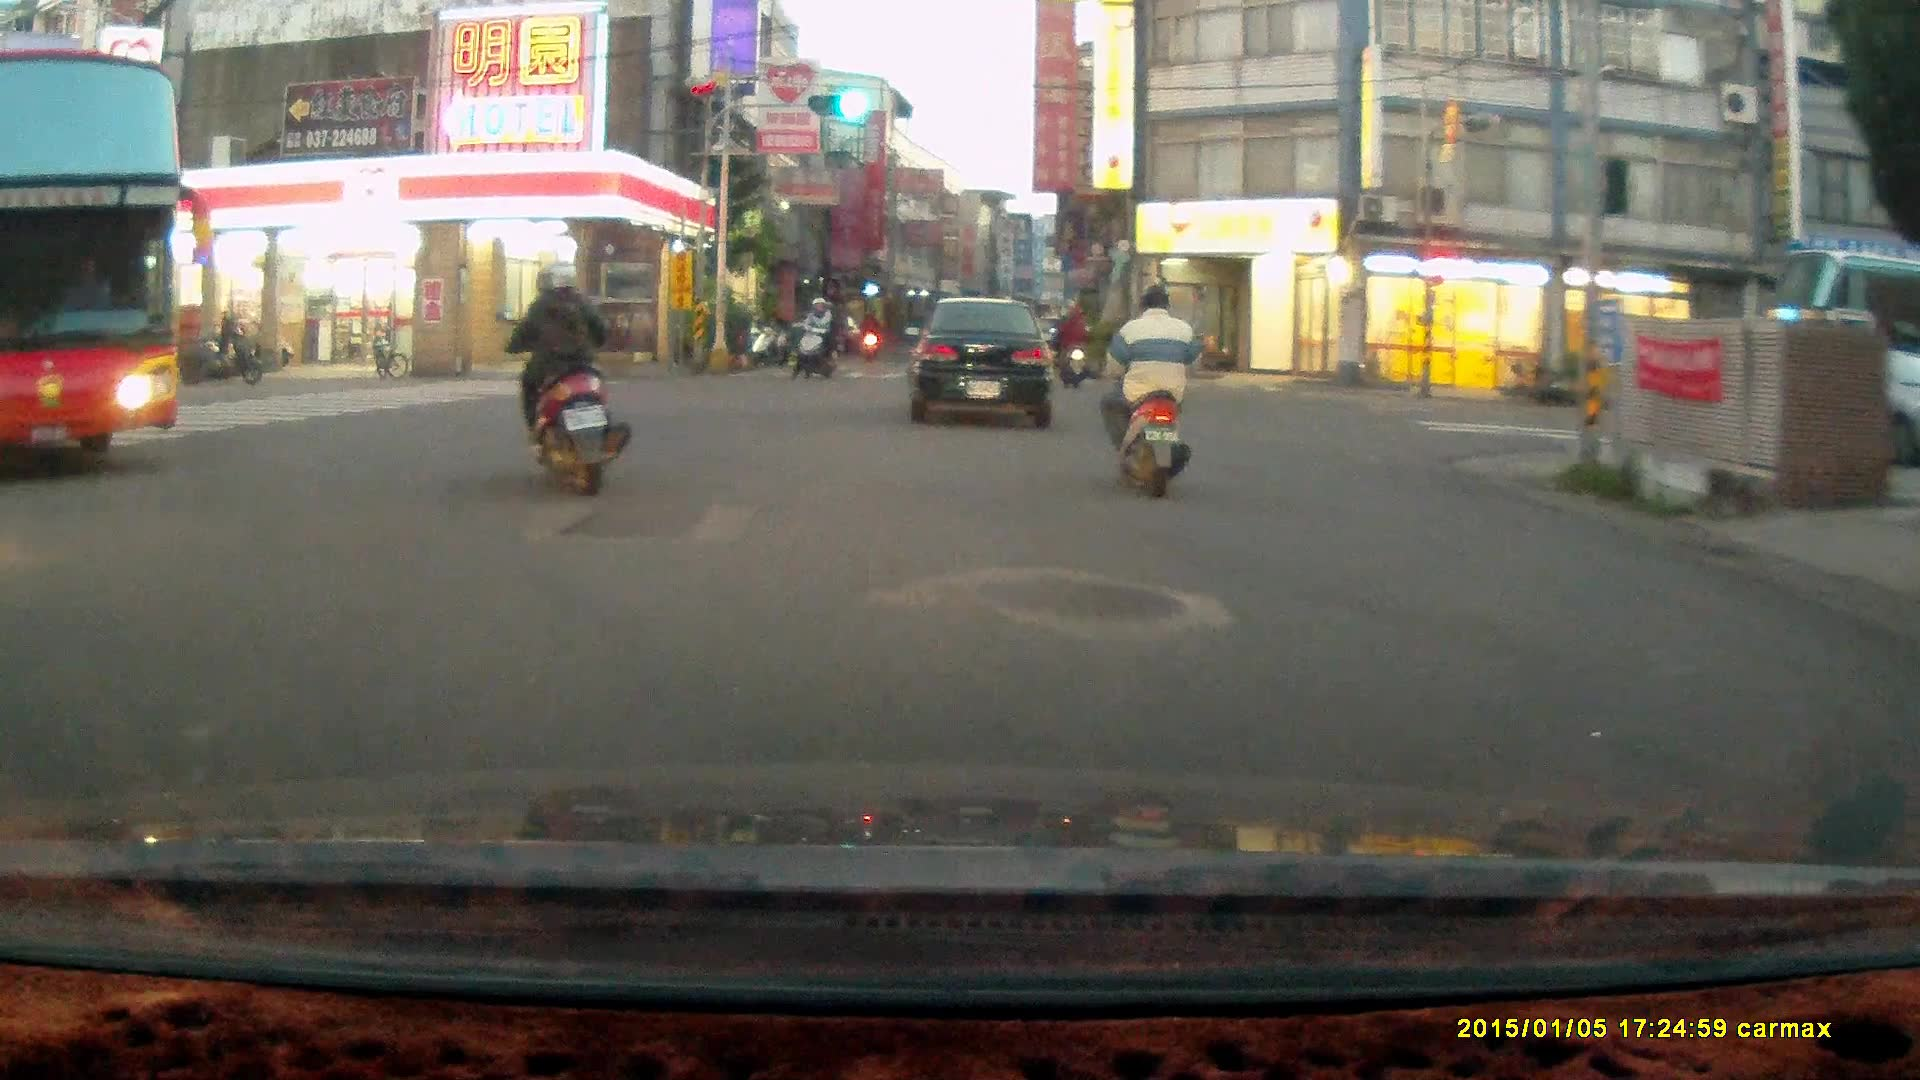rider: (495, 253, 632, 494), (1101, 284, 1202, 500), (793, 294, 844, 379), (1051, 298, 1090, 389)
vehicle: (1, 43, 185, 470), (1722, 343, 1920, 469), (912, 295, 1057, 431)
